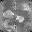people: (3, 18, 13, 30), (2, 10, 15, 18), (16, 15, 24, 23)
